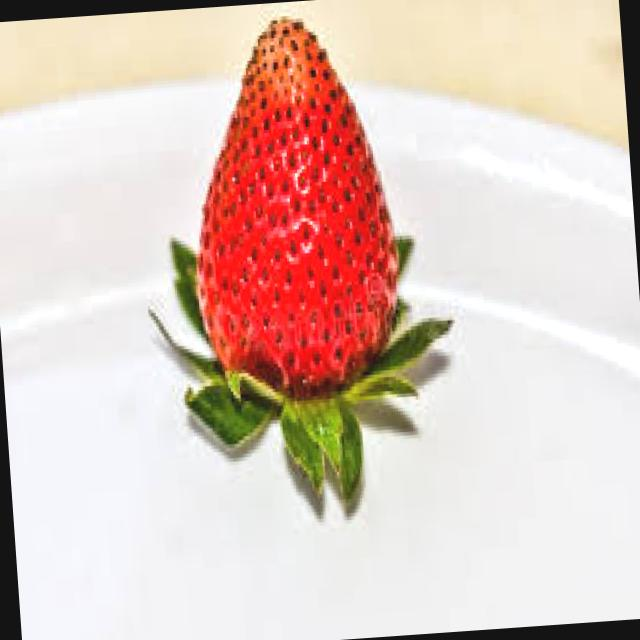strawberry: (166, 16, 431, 482)
